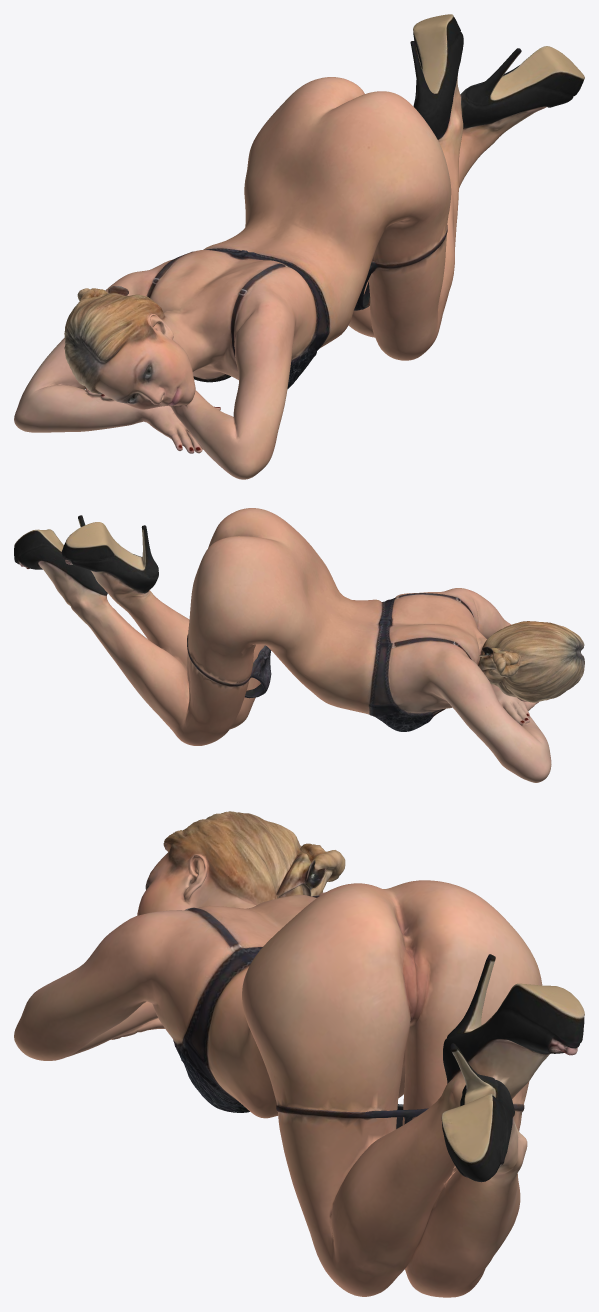
The picture shows the model from 3 angles, top to bottom: view 1: azimuth 30°, elevation 25°; view 2: azimuth 150°, elevation 25°; view 3: azimuth 270°, elevation 25°; orthographic projection. The views are drawn at different scales.
Visible parts, largest first — view 1: 86_LOD2_0; view 2: 86_LOD2_0; view 3: 86_LOD2_0.
Boxes of the visible parts, x1,y1,x2,y2 form: 86_LOD2_0: (14,14,584,479); 86_LOD2_0: (14,508,584,782); 86_LOD2_0: (14,811,584,1297).
Bounding box in the file's own units: 0.985 × 0.4194 × 0.5755.
Materials: 1 (1 with a texture image).
